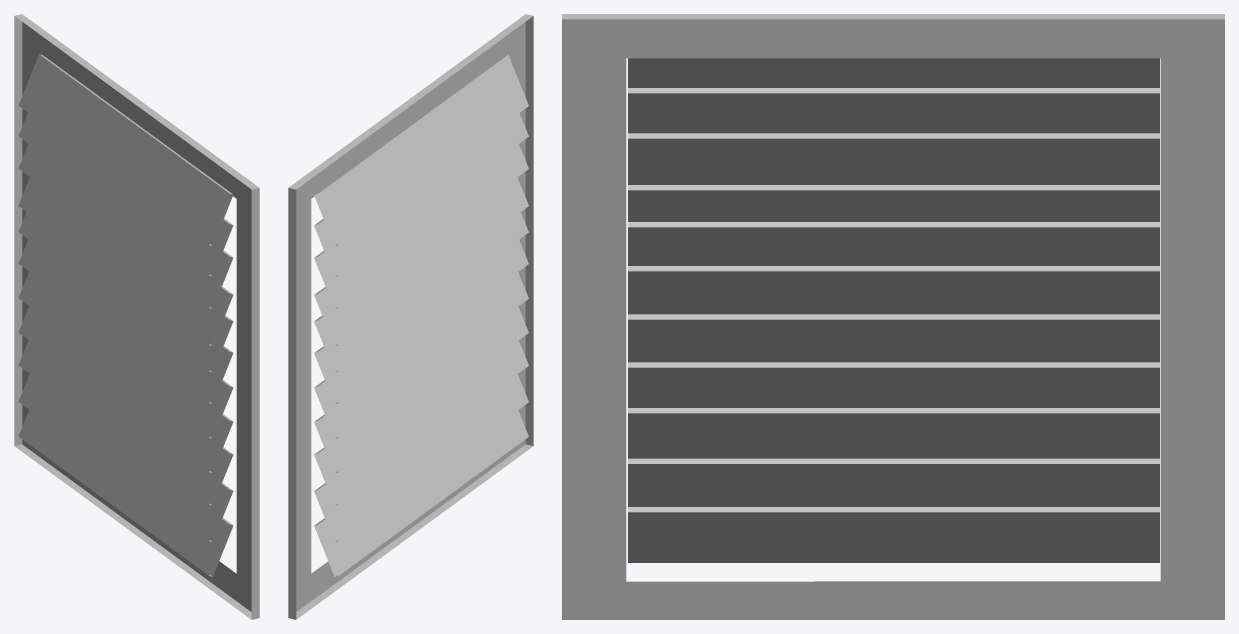
Rendered from SM_Airing_Cap_01.FBX.
3 renders of one model, left to right at view 1: azimuth 30°, elevation 25°; view 2: azimuth 150°, elevation 25°; view 3: azimuth 270°, elevation 25°, orthographic. The views are drawn at different scales.
Visible parts, largest first — view 1: SM_Airing_Cap_01; view 2: SM_Airing_Cap_01; view 3: SM_Airing_Cap_01.
Part boxes in pixels (x1,y1,x2,y2): SM_Airing_Cap_01: (14,14,259,619); SM_Airing_Cap_01: (288,14,533,619); SM_Airing_Cap_01: (562,14,1224,619).
Bounding box in the file's own units: 3.69 × 56.42 × 56.42.
